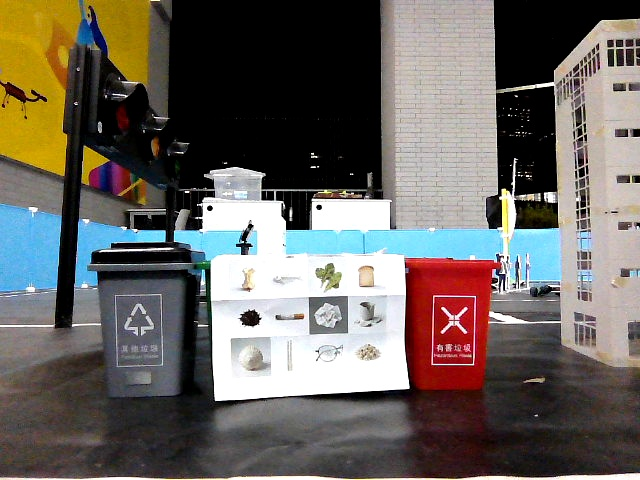food_trash: (349, 260, 387, 295), (310, 259, 345, 296), (230, 263, 267, 298), (231, 302, 268, 336), (270, 262, 306, 296), (350, 335, 386, 366)
other_trash: (231, 339, 271, 376), (269, 299, 309, 336), (271, 337, 307, 374), (349, 297, 386, 333), (309, 335, 347, 368), (310, 297, 345, 332), (605, 71, 640, 101)
recyclable_trash: (613, 310, 640, 363)
